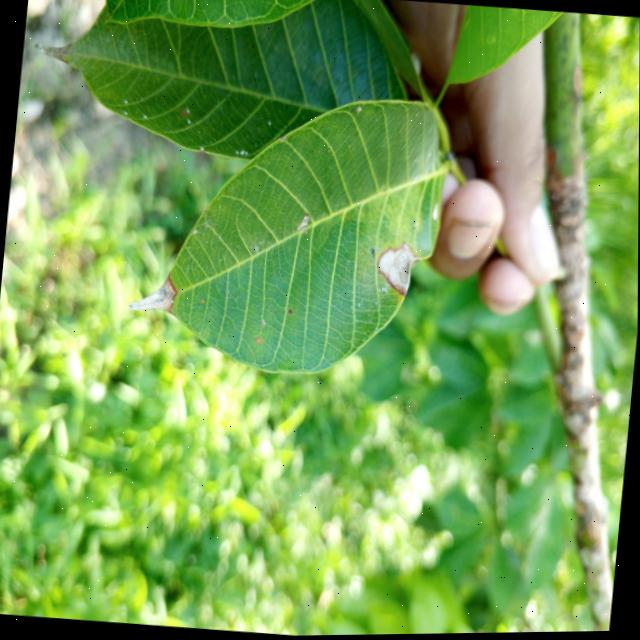Leaf-Blight: (374, 241, 423, 298), (127, 269, 178, 316), (288, 310, 292, 315)
